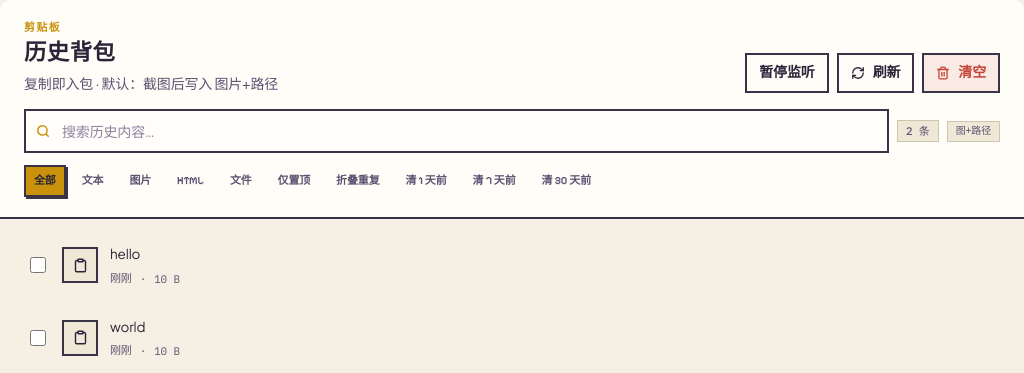
Test case: ClipboardPage - render branch priority › 搜索触发二次请求后更新列表
Expected: the text "2 条" is shown, [897, 120, 939, 142]
Type "hel" into the search field with placeholder "搜索历史内容…" at {"x": 456, "y": 131}, box [24, 109, 889, 153]
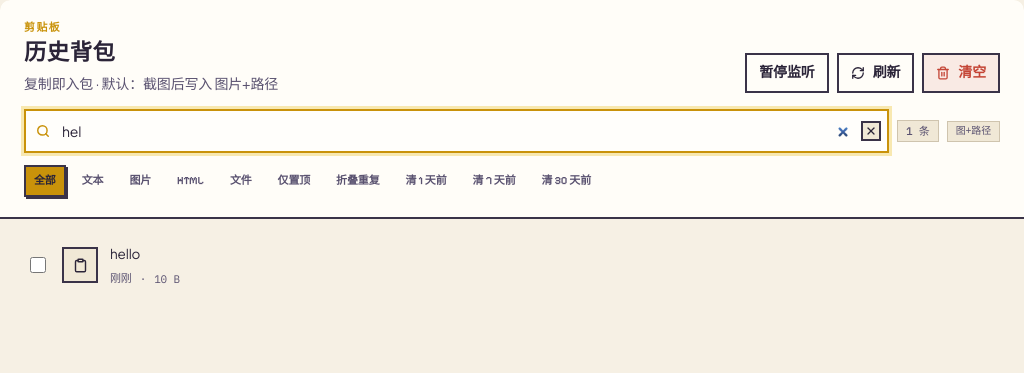
Now the text "1 条" is shown, box [897, 120, 939, 142]
